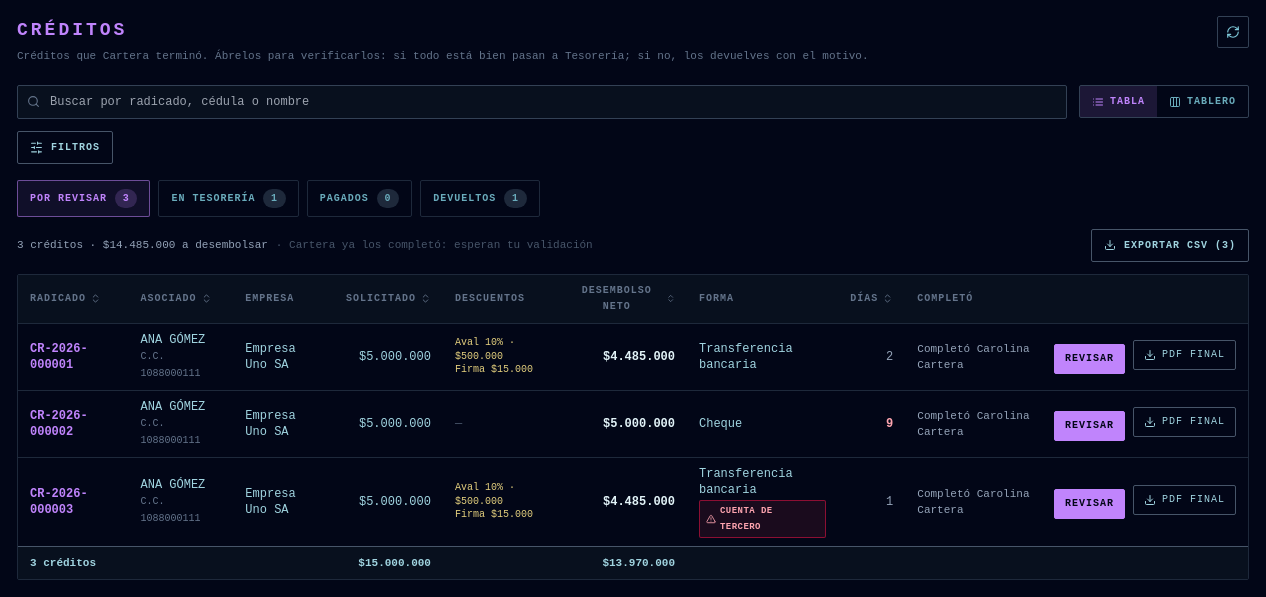
Test case: Control Interno — bandeja: pestañas › cambiar de pestaña pide esa bandeja y la deja en la URL (la de origen no la ensucia)
Expected: the link "CR-2026-000001" is shown, left=30, top=342, right=88, bottom=372
Click the button "EN TESORERÍA 1" at (229, 198), box left=158, top=180, right=299, bottom=216
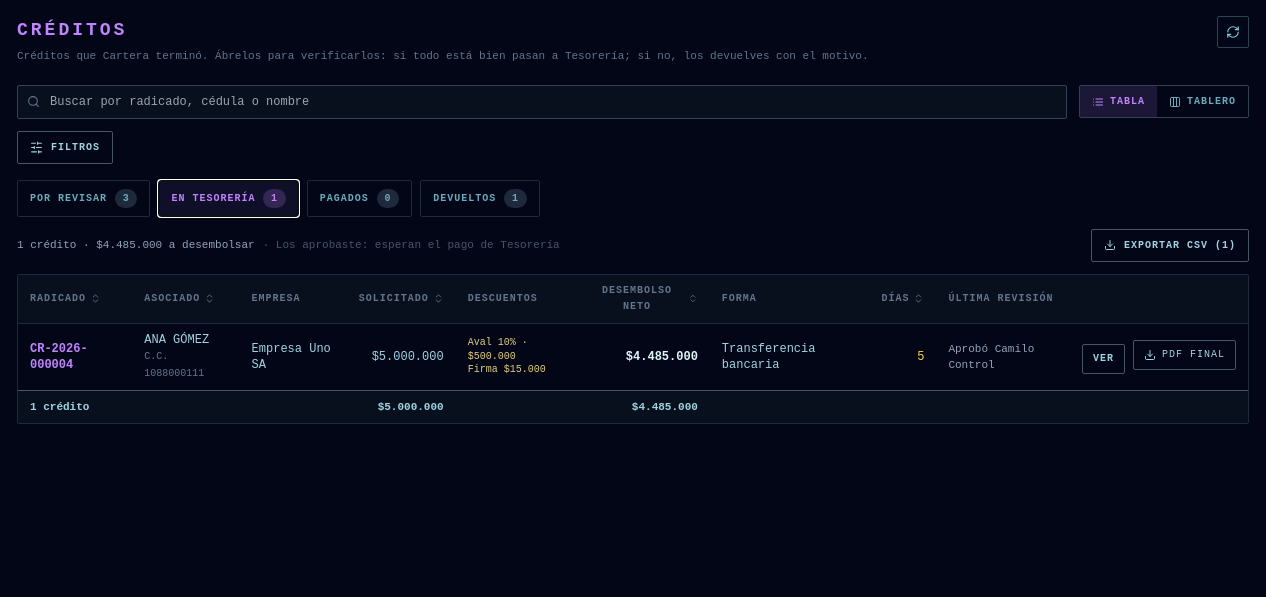
Result: the link "CR-2026-000004" is shown at left=30, top=342, right=88, bottom=372
Result: the link "CR-2026-000001" is gone
Click the button "POR REVISAR 3" at (84, 198), box left=17, top=180, right=150, bottom=216
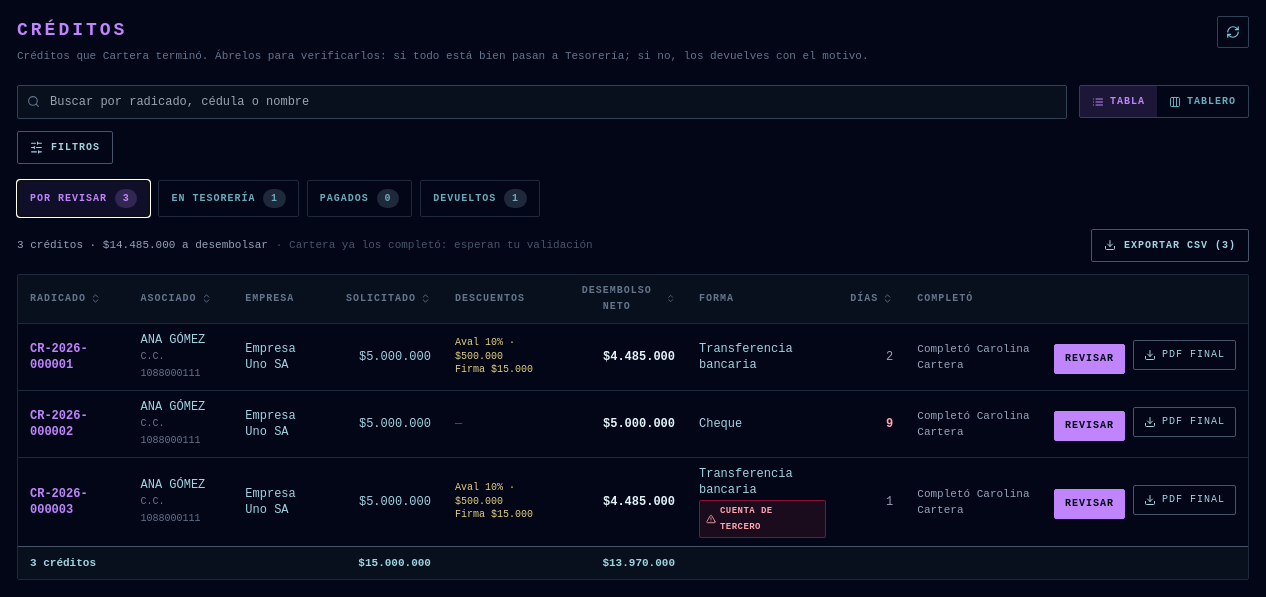
Result: the link "CR-2026-000001" is shown at left=30, top=342, right=88, bottom=372
